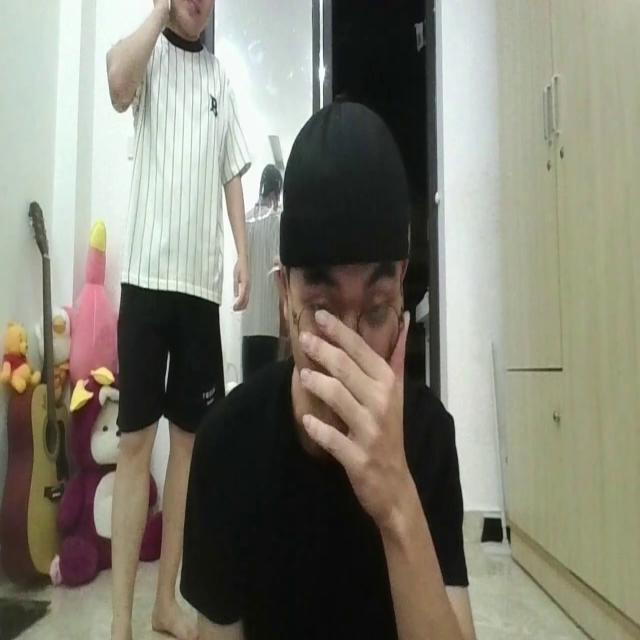extra_person: (101, 0, 247, 640)
student: (196, 93, 474, 640)
